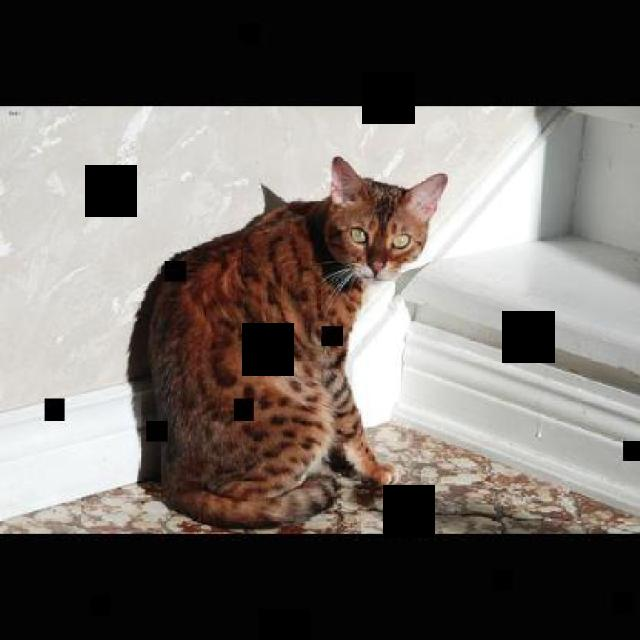unauthorized: (126, 154, 448, 529)
